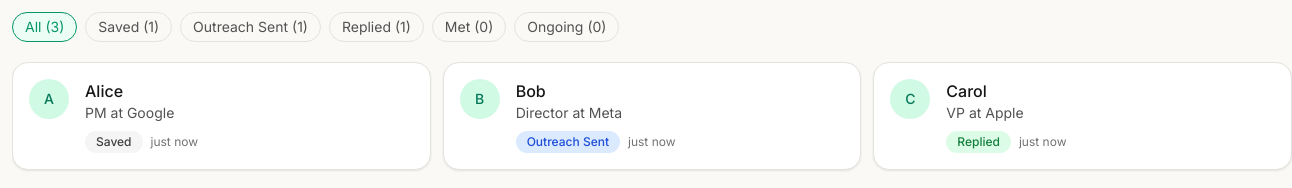
Test: ConnectionPipeline › returns to all view when All tab is clicked
What coordinates should you click on to do the following:
click the button "Saved (1)"
I would click on:
 (129, 27)
Its box is 85,12 -> 172,42.
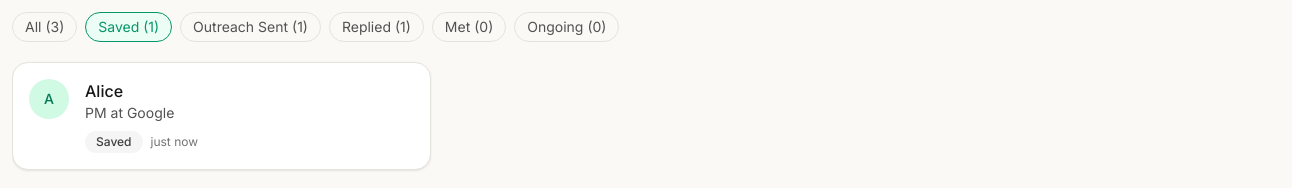
Check: the link "Bob" is gone
What coordinates should you click on to do the following:
click the button "All (3)"
I would click on:
 (45, 27)
Its box is 12,12 -> 77,42.
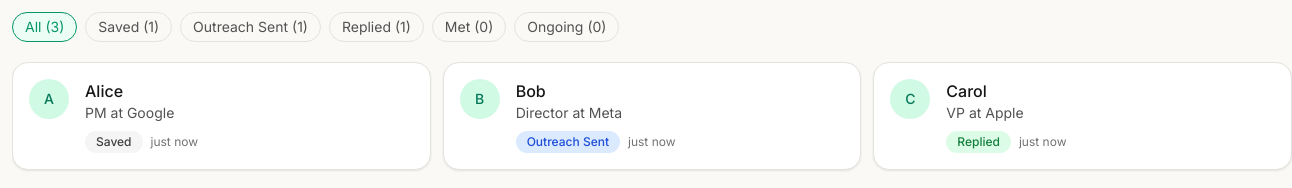
Check: the text "Alice" is shown, box 85,79 -> 123,103
Check: the text "Bob" is shown, box 516,79 -> 546,103
Check: the text "Carol" is shown, box 946,79 -> 987,103
